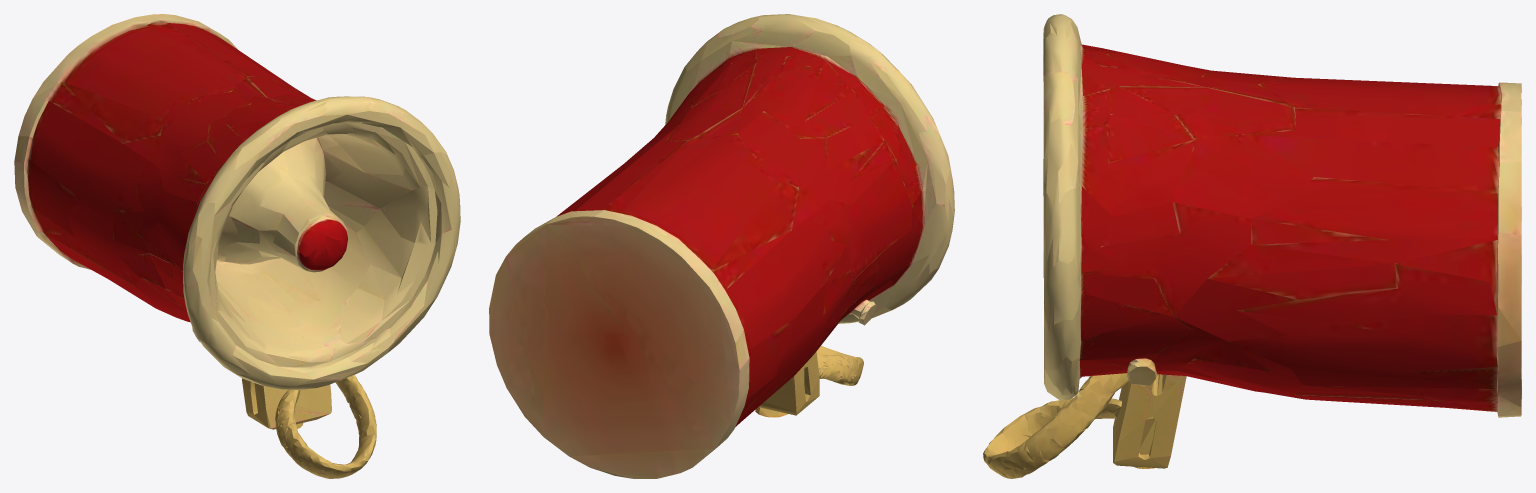
File: countdown_speaker.glb
3 renders of one model, left to right at view 1: azimuth 30°, elevation 25°; view 2: azimuth 150°, elevation 25°; view 3: azimuth 270°, elevation 25°, orthographic. The views are drawn at different scales.
Size of the model in its own units: 1.37 by 1.73 by 1.9.
Materials: 1 (1 with a texture image).
